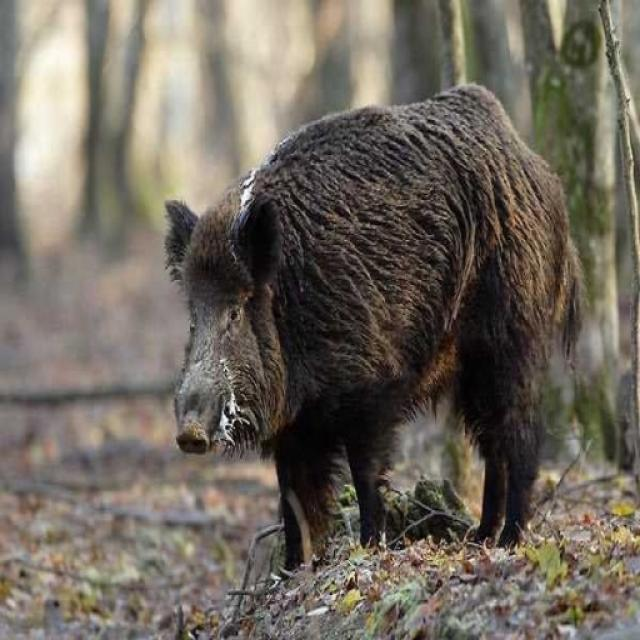pig: (121, 53, 624, 560)
